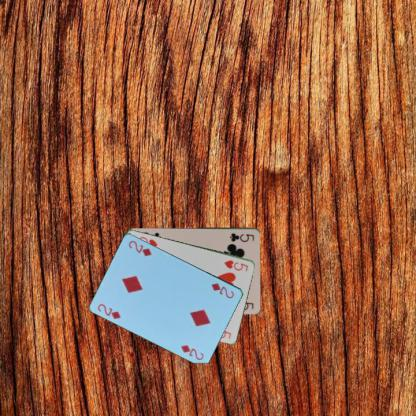2d: (208, 280, 236, 300), (95, 301, 122, 320)
5c: (227, 230, 255, 243)
5h: (222, 257, 249, 272)
